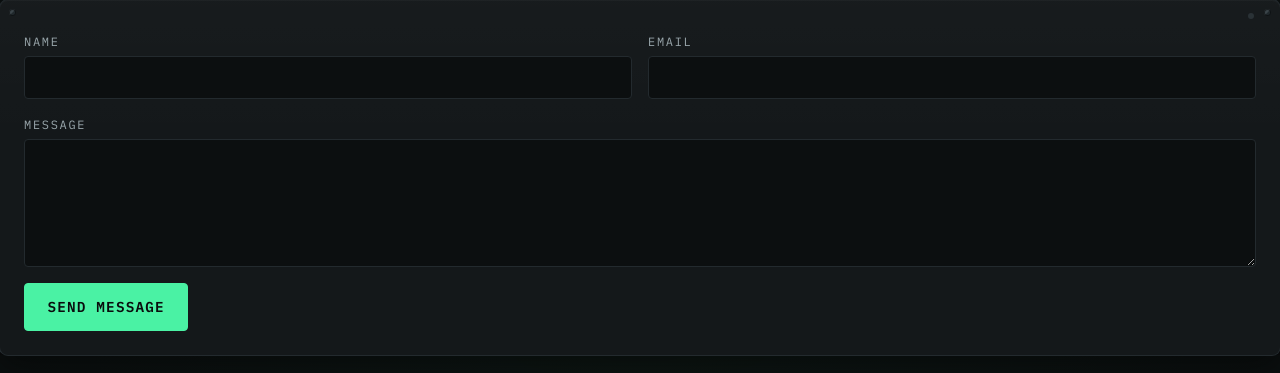
Scenario: ContactForm › shows the server error and keeps the message
Type " Ada " into the field labelled "Name" at (328, 77), box [24,56,632,99]
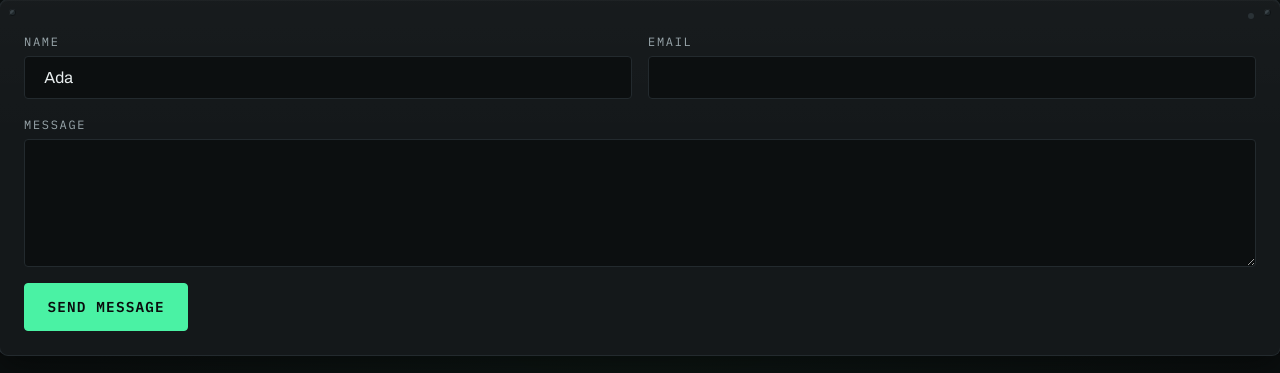
Type "ada@example.com" into the field labelled "Email" at (952, 77), box [648,56,1256,99]
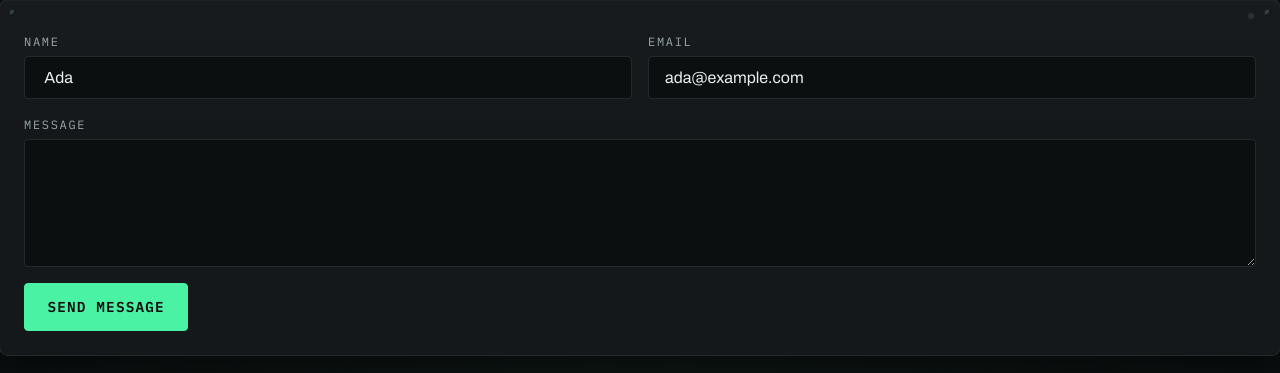
Type "Hello, lovely patches." into the text box labelled "Message" at (640, 203), box [24,139,1256,267]
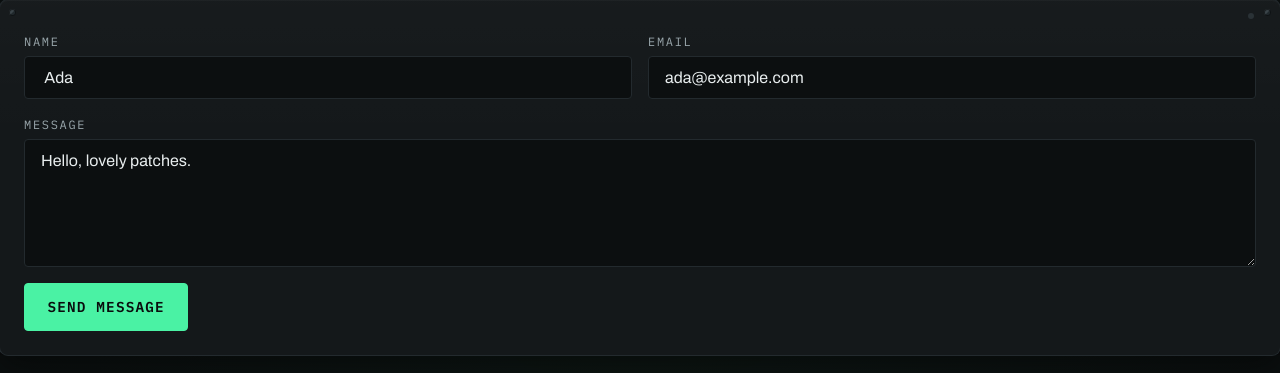
Click the button "Send message" at (106, 307), box [24,283,188,331]
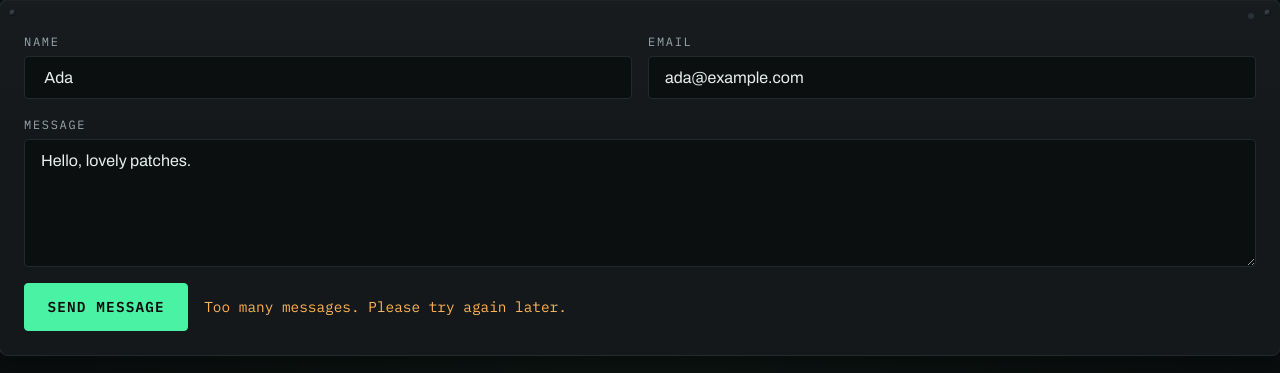
Check: the text "Too many messages. Please try again later." is shown, box [204,297,567,316]
